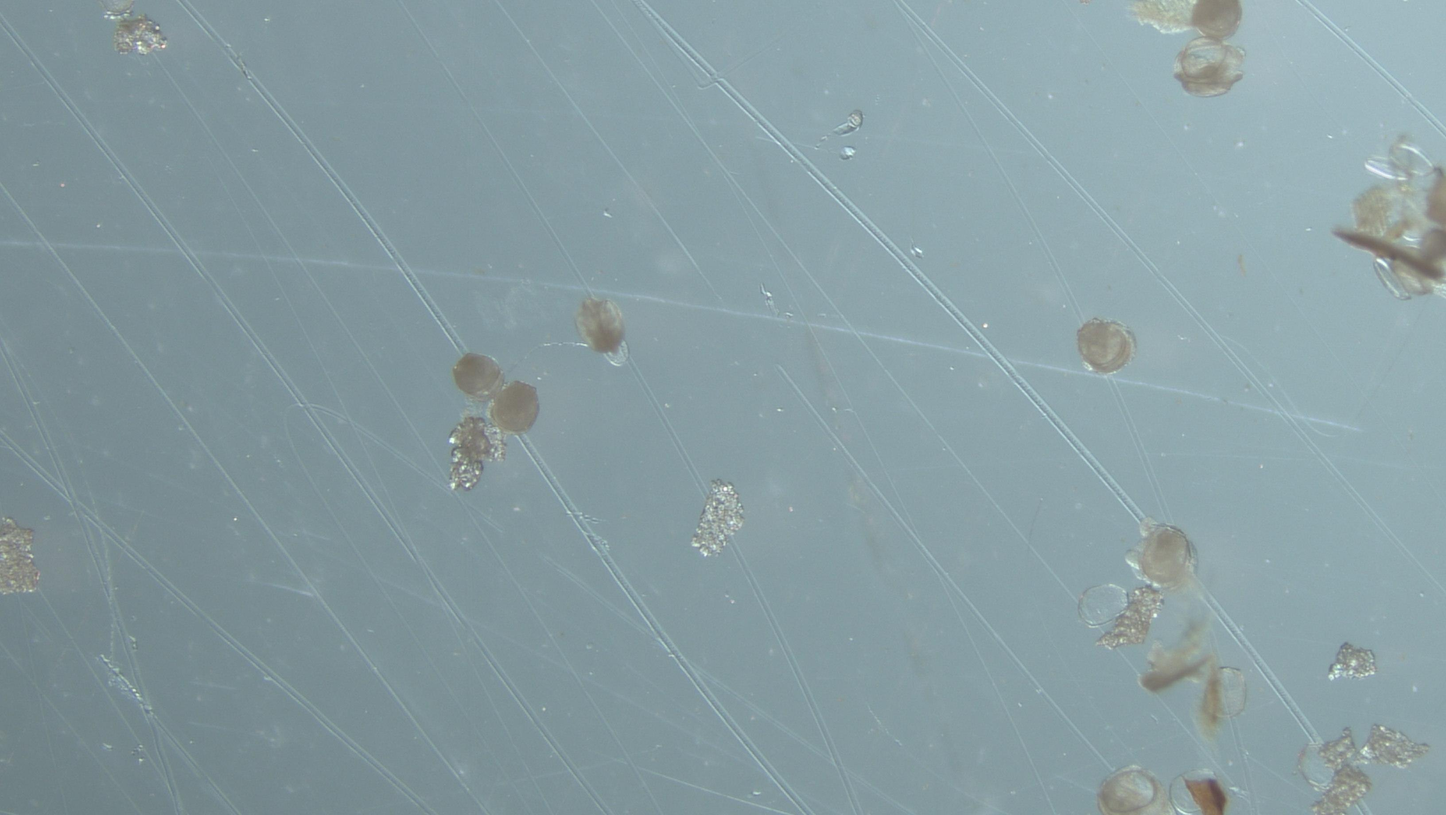dead: (1201, 668, 1247, 724), (1077, 584, 1129, 628), (1176, 38, 1228, 78), (1388, 136, 1433, 177), (1373, 257, 1413, 300), (1365, 157, 1405, 181), (99, 0, 135, 19)
live: (1127, 517, 1196, 592), (1174, 37, 1245, 97), (577, 298, 630, 366), (1076, 319, 1136, 376), (1098, 766, 1162, 815), (490, 381, 540, 435), (452, 353, 503, 401), (1192, 0, 1242, 40), (1427, 167, 1446, 227), (1421, 228, 1446, 264)
